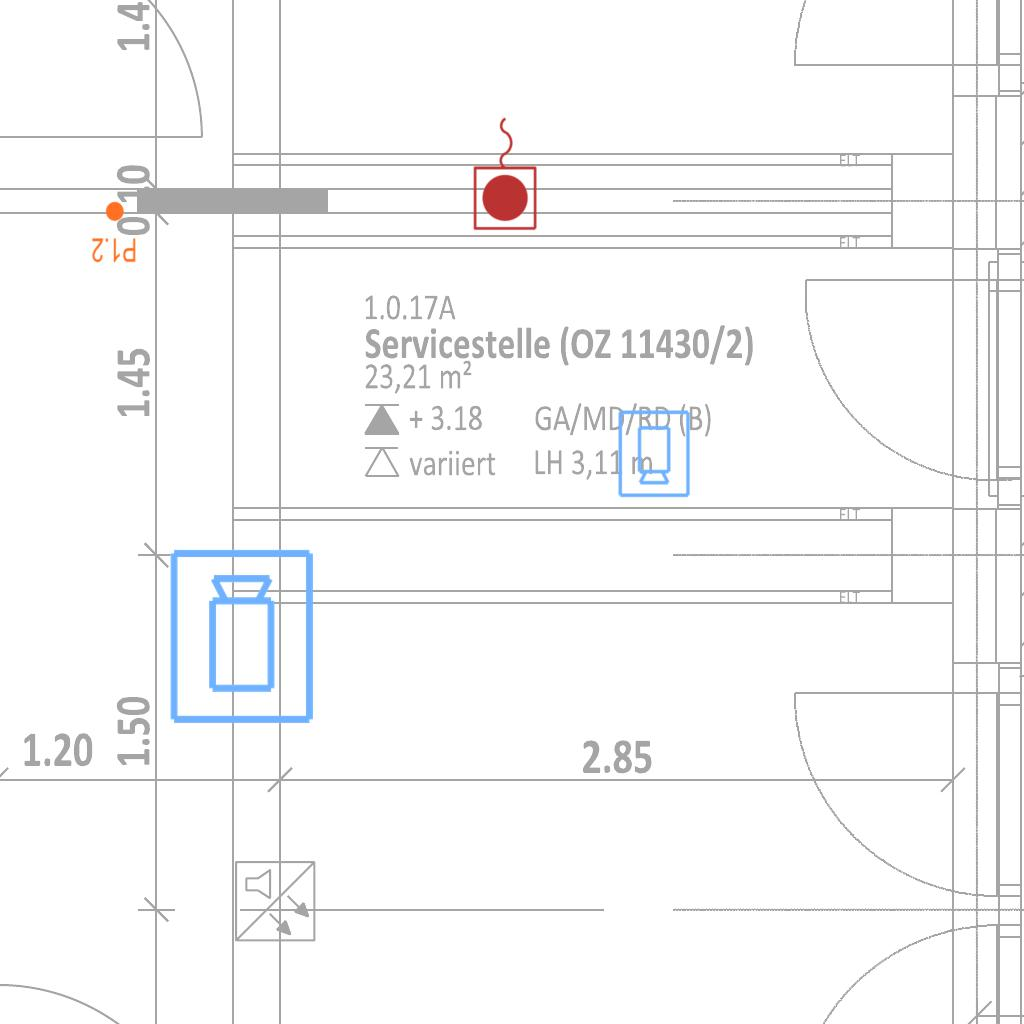Downlight_LED_Einbauleuchten_Flur: (91, 200, 137, 264)
KFO_Kamera_mit_Festobjektiv: (166, 546, 320, 728), (615, 408, 692, 499)
Zugtaster: (470, 112, 542, 234)
